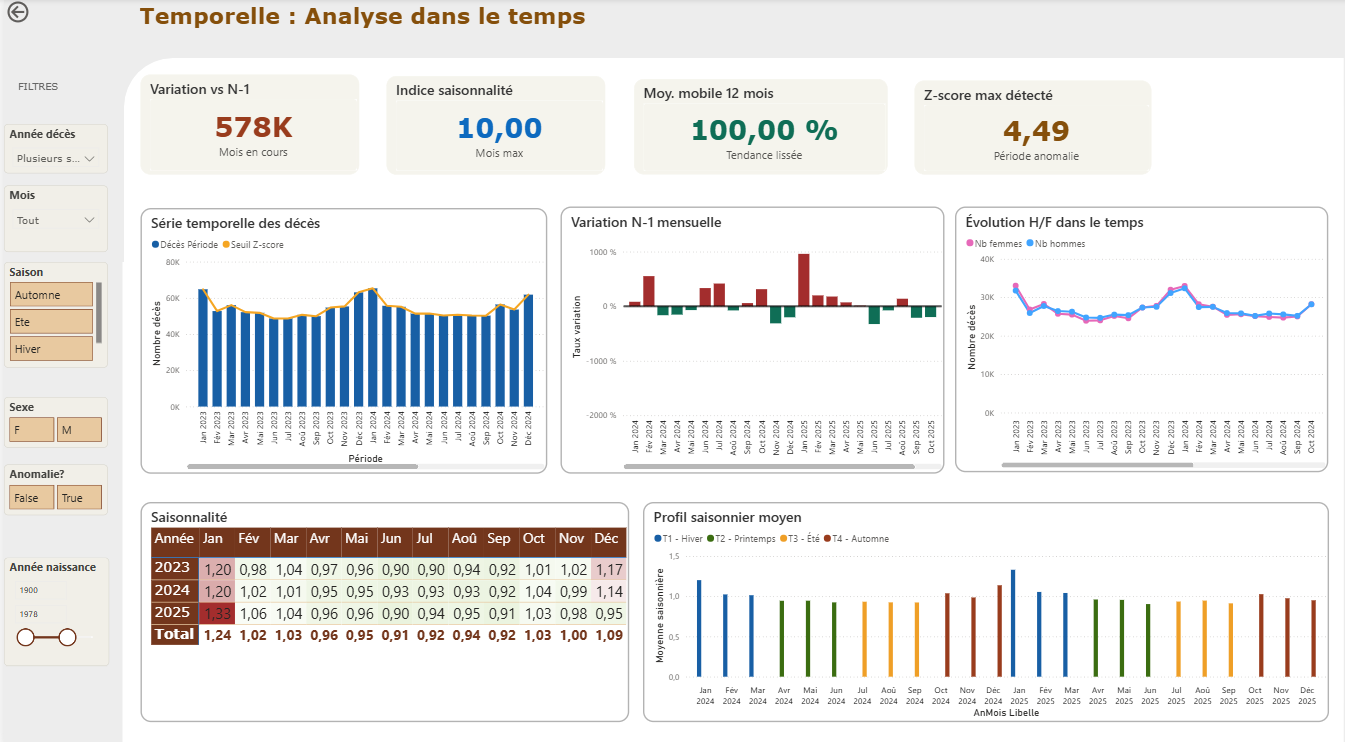

Layout of this report page (visuals, bound fields, positions):
{"tool":"powerbi","page":{"name":"Temporelle ","canvas":[1920,1080],"ordinal":3},"visuals":[{"type":"group","id":"g1","title":"Groupe 1","box":[169.6,87,1750,993.5],"z":0},{"type":"shape","box":[257.8,87,1661.1,993.7],"z":0,"group":"g1"},{"type":"cardVisual","title":"Variation vs N-1","fields":{"Data":["_Mesures.Variation absolue N-1"]},"box":[195.7,108.7,313,143.5],"z":1000},{"type":"shape","box":[169.6,378.4,1661.1,702.3],"z":1000,"group":"g1"},{"type":"shape","box":[170.8,87.3,1747,992.4],"z":2000,"group":"g1"},{"type":"cardVisual","title":"Z-score max détecté","fields":{"Data":["_Mesures.Z score max"]},"box":[1304.3,117.4,339.1,134.8],"z":2000},{"type":"cardVisual","title":"Moy. mobile 12 mois","fields":{"Data":["_Mesures.Moy mobile 12 mois"]},"box":[901.4,115.2,363,137],"z":3000},{"type":"cardVisual","title":"Indice saisonnalité","fields":{"Data":["_Mesures.Indice saisonnalité max"]},"box":[548.6,110.9,313,141.3],"z":4000},{"type":"slicer","title":"Mois","fields":{"Values":["agg_mortalite_mensuelle.Mois Libelle"]},"box":[0,269.4,148.4,95.2],"z":5000},{"type":"lineClusteredColumnComboChart","title":"Série temporelle des décès","fields":{"Y":["_Mesures.Décès période"],"Category":["agg_mortalite_mensuelle.AnMois Libelle"],"Y2":["_Mesures.Seuil Z-score"]},"box":[195.7,300,582.6,380.4],"z":6000},{"type":"pivotTable","title":"Saisonnalité","fields":{"Rows":["agg_mortalite_mensuelle.Année"],"Values":["_Mesures.Indice Saisonnalité"],"Columns":["agg_mortalite_mensuelle.Mois Libelle"]},"box":[195.7,721.7,700,315.2],"z":7000},{"type":"clusteredColumnChart","title":" Variation N-1 mensuelle","fields":{"Y":["_Mesures.Variation % vs N-1"],"Category":["agg_mortalite_mensuelle.AnMois Libelle"]},"box":[797.8,297.8,550,382.6],"z":8000},{"type":"clusteredColumnChart","title":"Profil saisonnier moyen","fields":{"Category":["agg_mortalite_mensuelle.AnMois Libelle"],"Series":["agg_mortalite_mensuelle.Trimestre Libelle 2"],"Y":["agg_mortalite_mensuelle.Profil Saisonnier Moyen"]},"box":[915.2,721.7,982.6,315.2],"z":9000},{"type":"actionButton","box":[0,0,100,40],"z":10000},{"type":"lineChart","title":"Évolution H/F dans le temps","fields":{"Y":["Sum(agg_mortalite_mensuelle.Nombre femmes)","Sum(agg_mortalite_mensuelle.Nombre hommes)"],"Category":["agg_mortalite_mensuelle.AnMois Libelle"]},"box":[1363,297.8,534.8,380.4],"z":11000},{"type":"textbox","box":[189.1,0,741.3,58.7],"z":12000},{"type":"textbox","box":[14.3,110.7,98.2,35.7],"z":13000},{"type":"advancedSlicerVisual","fields":{"Values":["fact_deces.Sexe"]},"box":[0,571,148.4,72.6],"z":14000},{"type":"slicer","title":"Année décès","fields":{"Values":["dim_date.Année"]},"box":[0,180.6,148.4,71],"z":15000},{"type":"advancedSlicerVisual","fields":{"Values":["dim_date.Saison"]},"box":[0,379,148.4,151.6],"z":17000},{"type":"advancedSlicerVisual","fields":{"Values":["agg_mortalite_mensuelle.Anomalie?"]},"box":[0,667.7,148.4,72.6],"z":18000},{"type":"slicer","title":"Année naissance","fields":{"Values":["agg_mortalite_generation.Année naissance"]},"box":[0,800.4,150.9,155.3],"z":19000}]}

Visuals, with their boxes on the page's 1920x1080 design canvas (x1, y1, x2, y2). These are canvas units, not pixel positions in the 1345x742 screenshot, which may show the page scaled, cropped or inside an application window:
"Groupe 1" group: [170,87,1920,1080]
shape: [258,87,1919,1081]
"Variation vs N-1" cardVisual: [196,109,509,252]
shape: [170,378,1831,1081]
shape: [171,87,1918,1080]
"Z-score max détecté" cardVisual: [1304,117,1643,252]
"Moy. mobile 12 mois" cardVisual: [901,115,1264,252]
"Indice saisonnalité" cardVisual: [549,111,862,252]
"Mois" slicer: [0,269,148,365]
"Série temporelle des décès" lineClusteredColumnComboChart: [196,300,778,680]
"Saisonnalité" pivotTable: [196,722,896,1037]
" Variation N-1 mensuelle" clusteredColumnChart: [798,298,1348,680]
"Profil saisonnier moyen" clusteredColumnChart: [915,722,1898,1037]
actionButton: [0,0,100,40]
"Évolution H/F dans le temps" lineChart: [1363,298,1898,678]
textbox: [189,0,930,59]
textbox: [14,111,112,146]
advancedSlicerVisual - fact_deces.Sexe: [0,571,148,644]
"Année décès" slicer: [0,181,148,252]
advancedSlicerVisual - dim_date.Saison: [0,379,148,531]
advancedSlicerVisual - agg_mortalite_mensuelle.Anomalie?: [0,668,148,740]
"Année naissance" slicer: [0,800,151,956]
